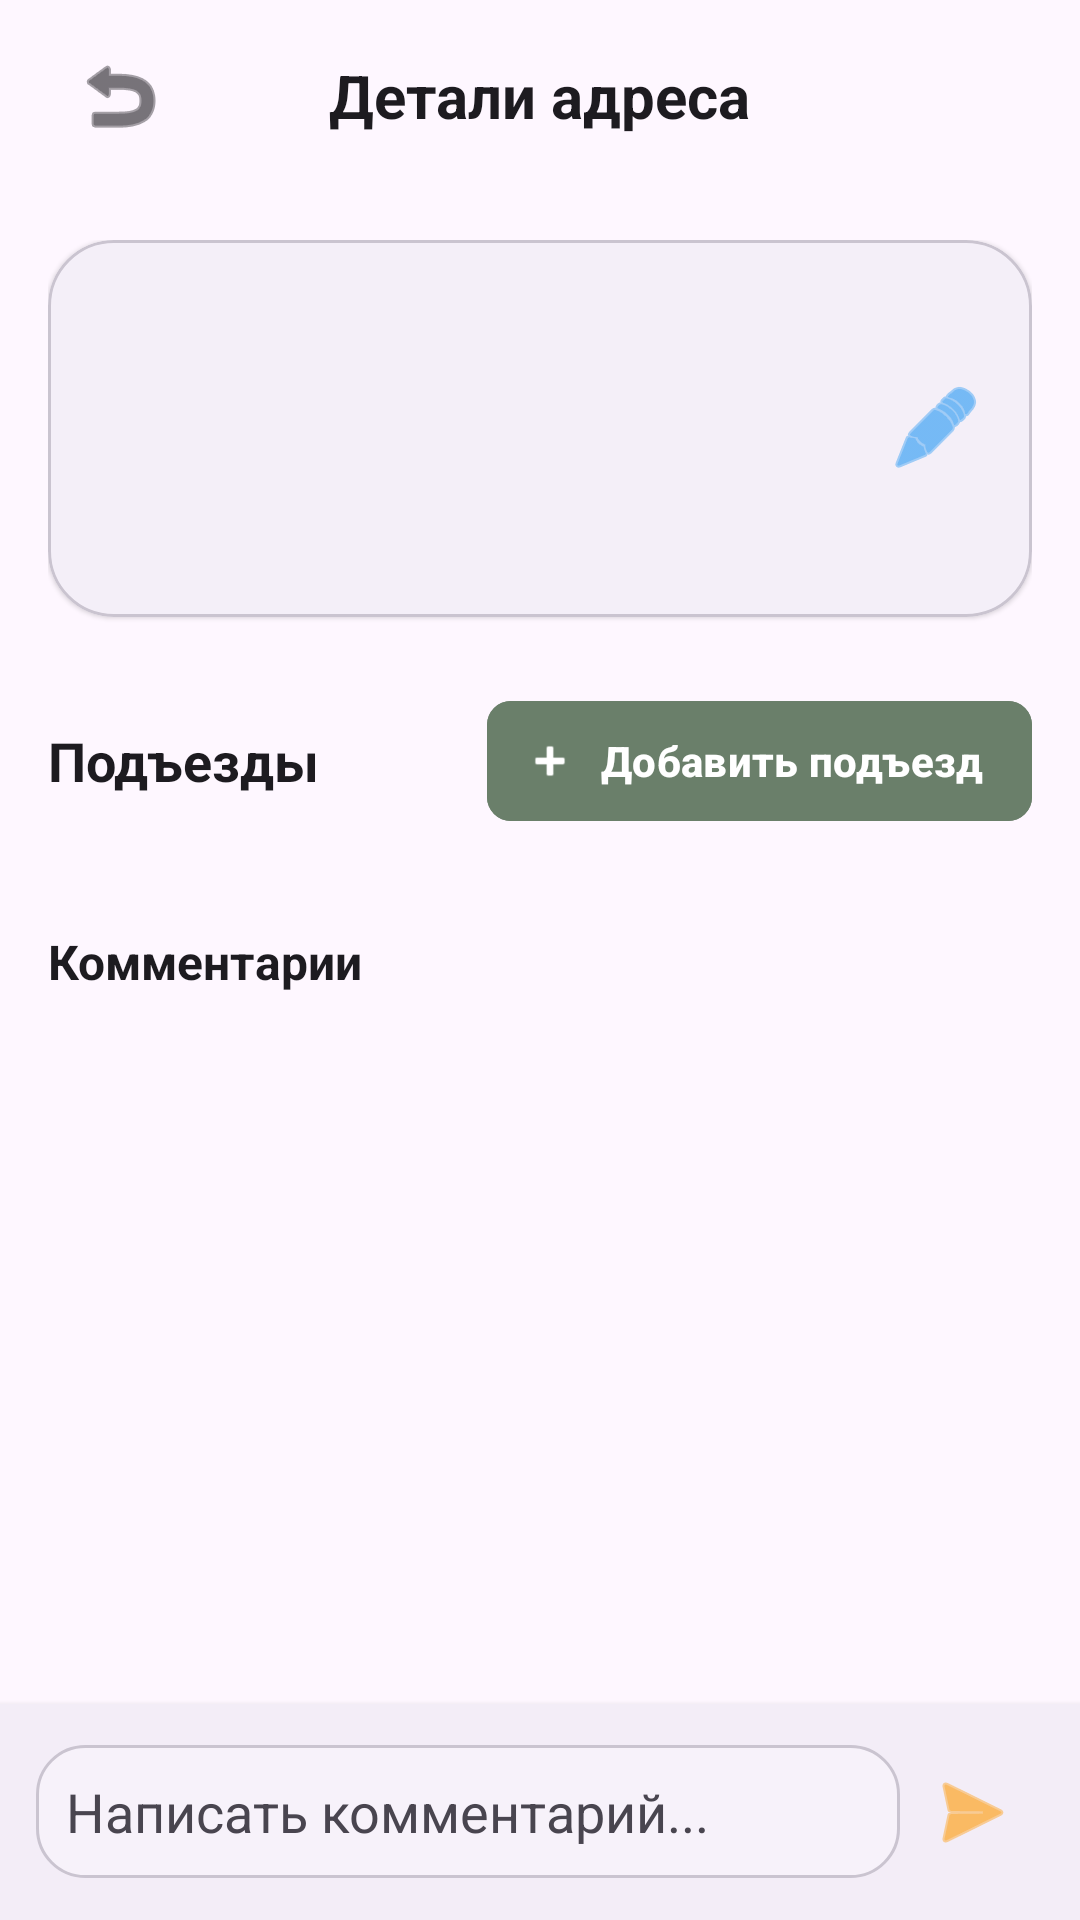

Locate icon controls on the screen. Image size 1080×1920, boxes as BBox(x1, y1, x2, y2).
edit: BBox(895, 387, 976, 468)
revert: BBox(87, 65, 156, 128)
send: BBox(942, 1782, 1004, 1843)
